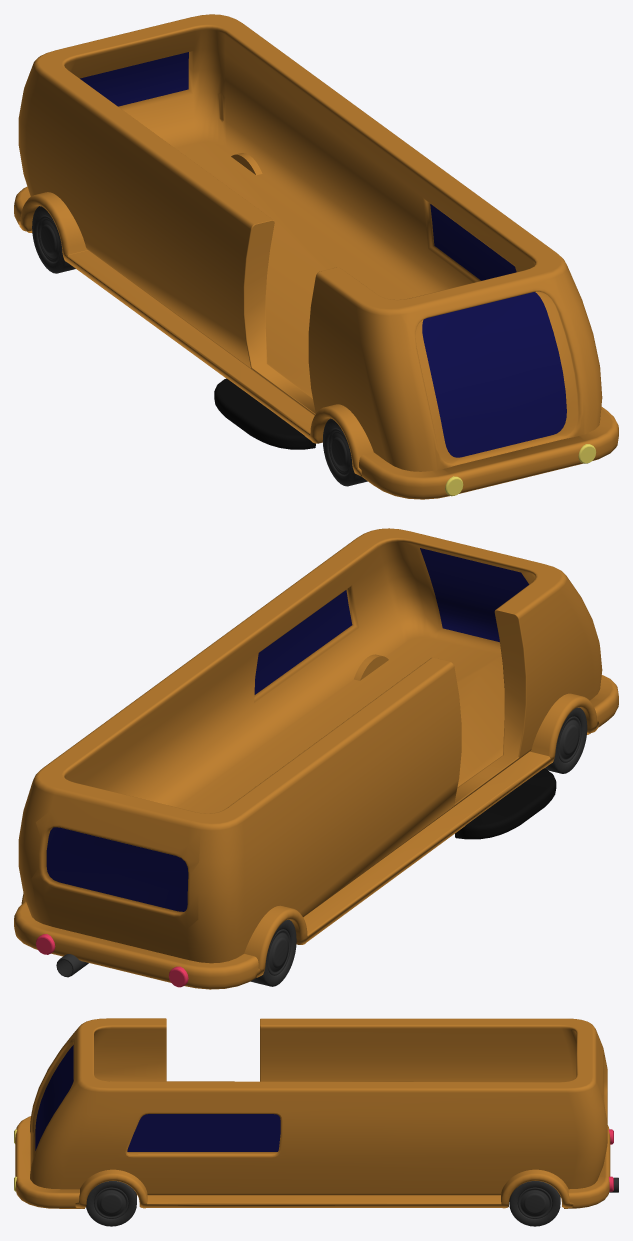
File: busx2.fbx
3 views of the same model, one above another, from view 1: azimuth 30°, elevation 25°; view 2: azimuth 150°, elevation 25°; view 3: azimuth 270°, elevation 25° (orthographic). The views are drawn at different scales.
Parts seen in each view (by area): view 1: Box045.001, Bus.001; view 2: Box045.001, Bus.001; view 3: Box045.001, Bus.001.
Boxes of the visible parts, bbox=[...] form: Box045.001: bbox=[14, 14, 618, 499]; Bus.001: bbox=[32, 206, 367, 486]; Box045.001: bbox=[14, 528, 618, 989]; Bus.001: bbox=[250, 707, 587, 986]; Box045.001: bbox=[14, 1018, 618, 1208]; Bus.001: bbox=[86, 1181, 560, 1226].
Size of the model in its own units: 278 by 178 by 742.
